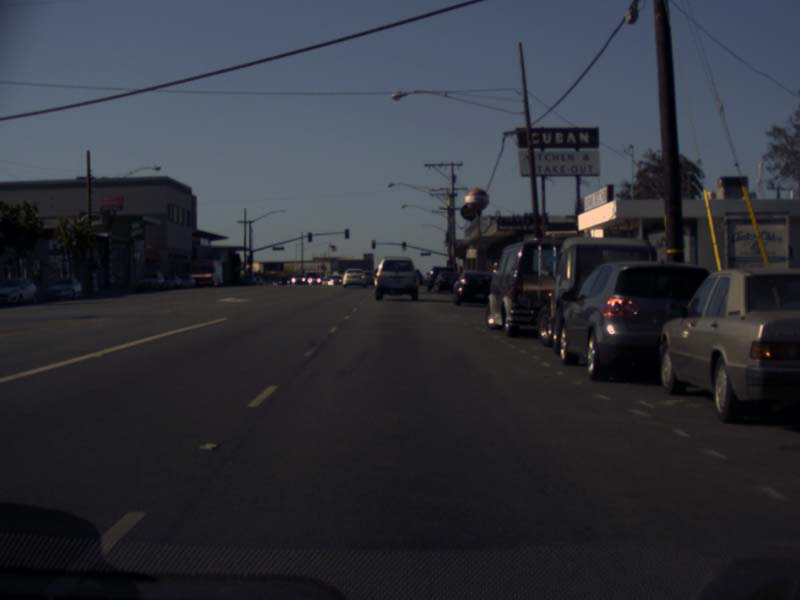Green: (401, 242, 405, 250)
Red: (371, 240, 375, 248)
